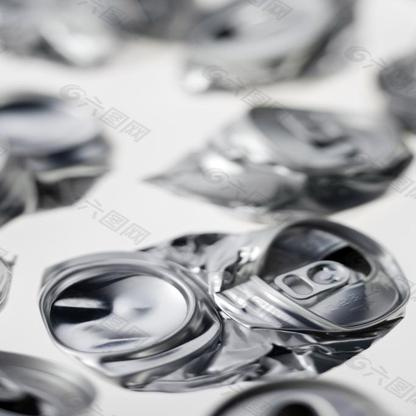can: (36, 211, 406, 396)
